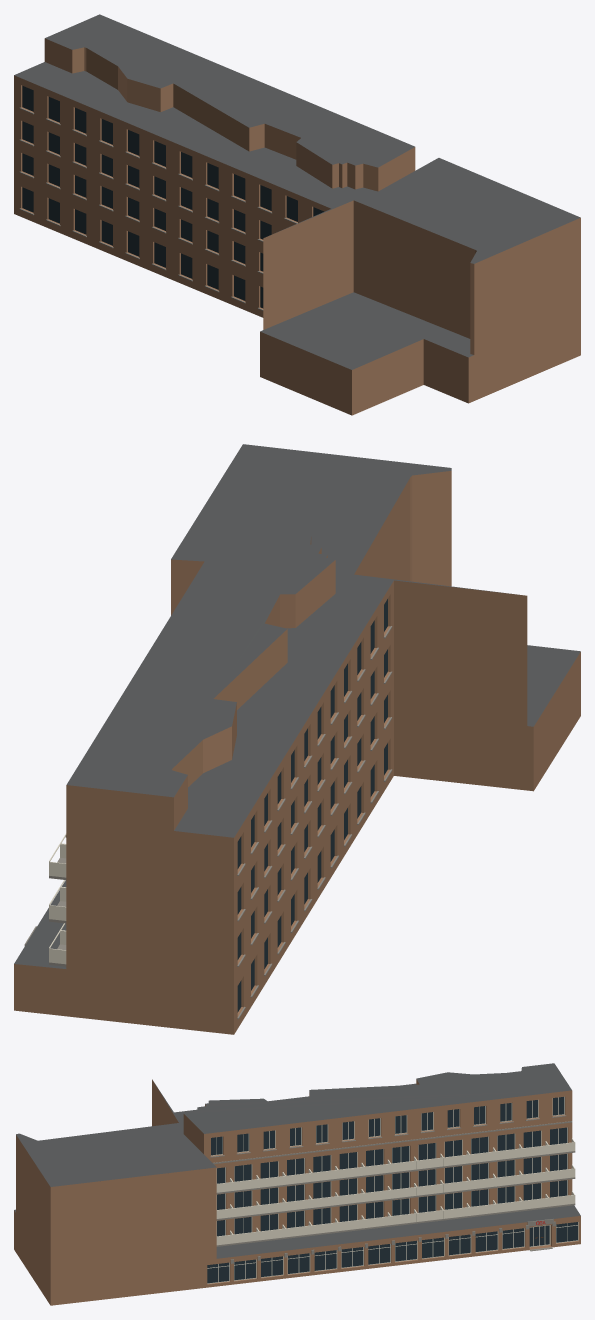
The model's file is recipe-large-oba-mercatorplein.glb.
3 views of the same model, one above another, from view 1: azimuth 30°, elevation 25°; view 2: azimuth 150°, elevation 25°; view 3: azimuth 270°, elevation 25° (orthographic). The views are drawn at different scales.
Parts seen in each view (by area): view 1: oba-mercatorplein; view 2: oba-mercatorplein; view 3: oba-mercatorplein.
Boxes of the visible parts, box(x1,y1,x2,y2) form: oba-mercatorplein: box(14, 14, 580, 415); oba-mercatorplein: box(14, 444, 580, 1034); oba-mercatorplein: box(14, 1063, 580, 1305).
Bounding box in the file's own units: 30.42 × 16.89 × 61.84.
